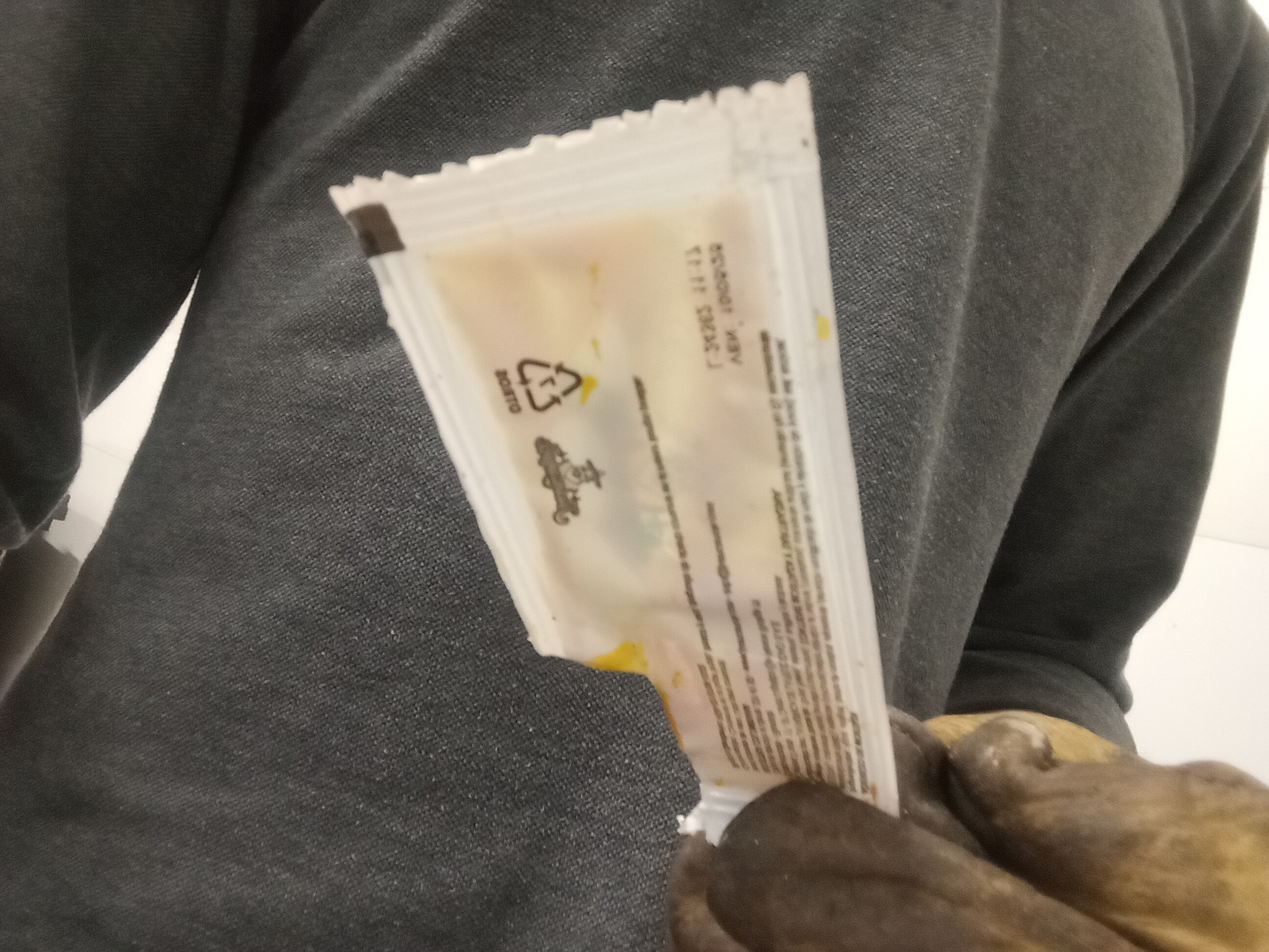Ordinario: (327, 73, 903, 852)
